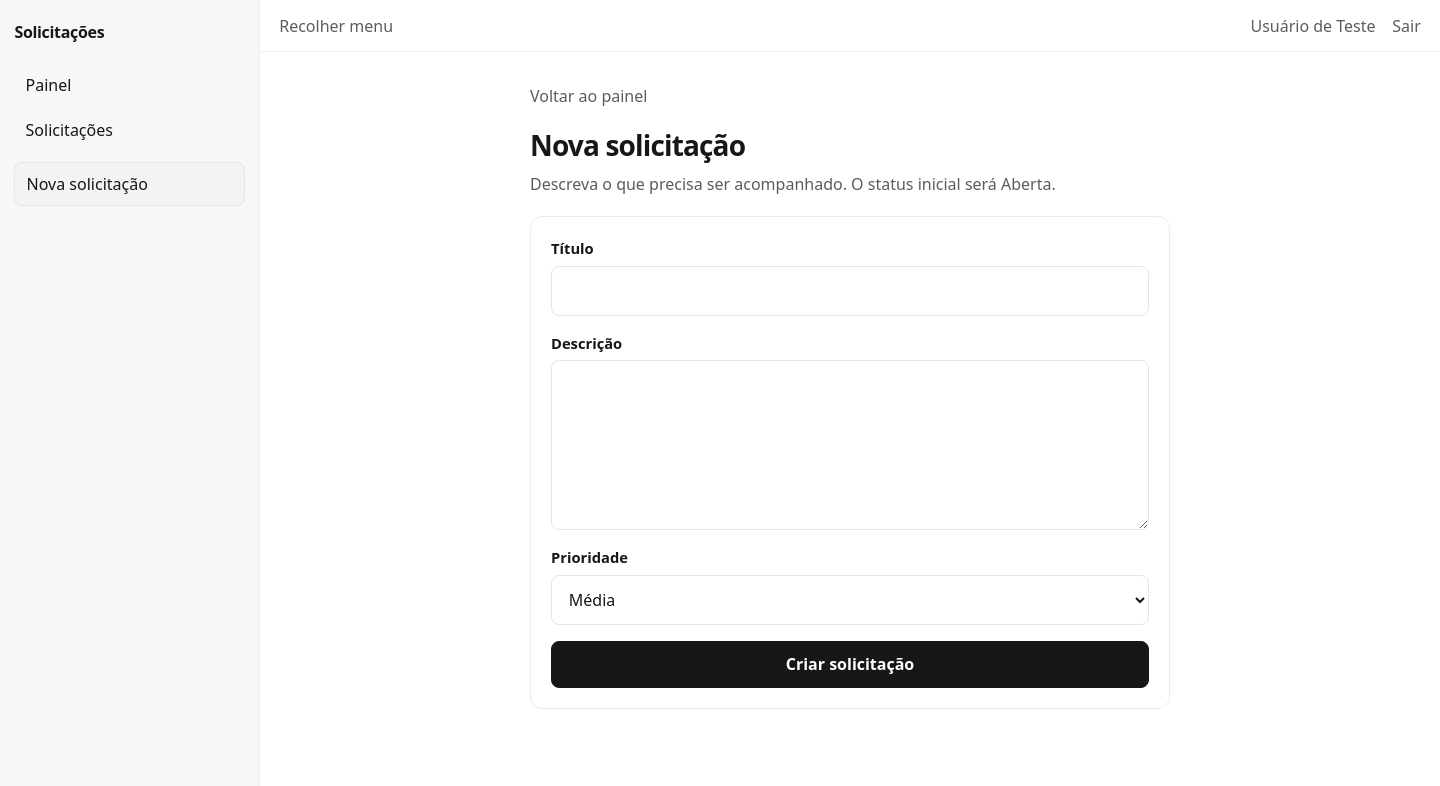
Test: painel e solicitações › cria uma solicitação e abre os detalhes
The width and height of the screenshot is (1440, 786).
Check: the heading "Nova solicitação" is shown, box top-left (530, 126), bottom-right (745, 164)
Type "Trocar a lâmpada de teste" into the field labelled "Título" at point(850, 291), box top-left (551, 266), bottom-right (1149, 316)
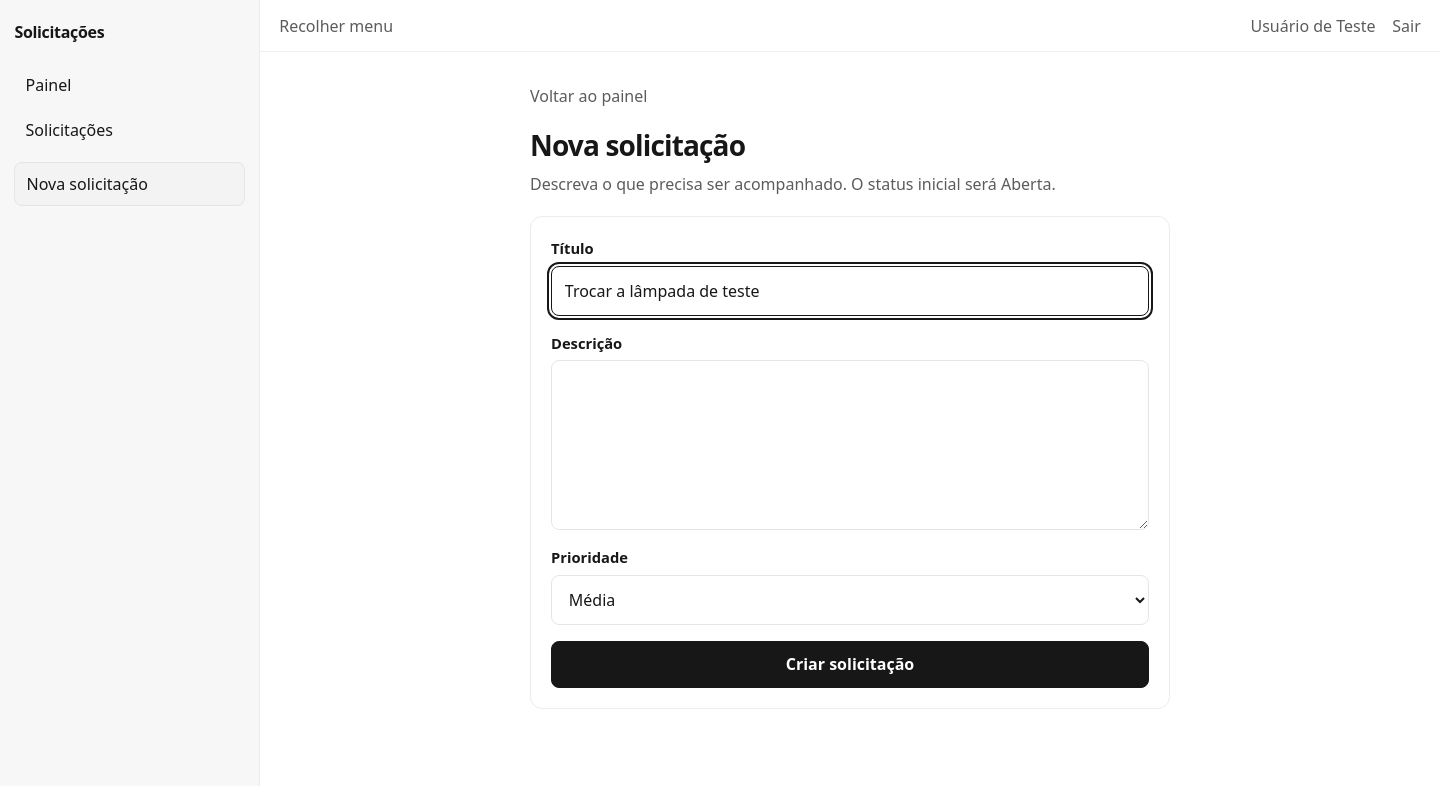
Type "Solicitação recebida da API de teste." into the text box labelled "Descrição" at point(850, 445), box top-left (551, 360), bottom-right (1149, 530)
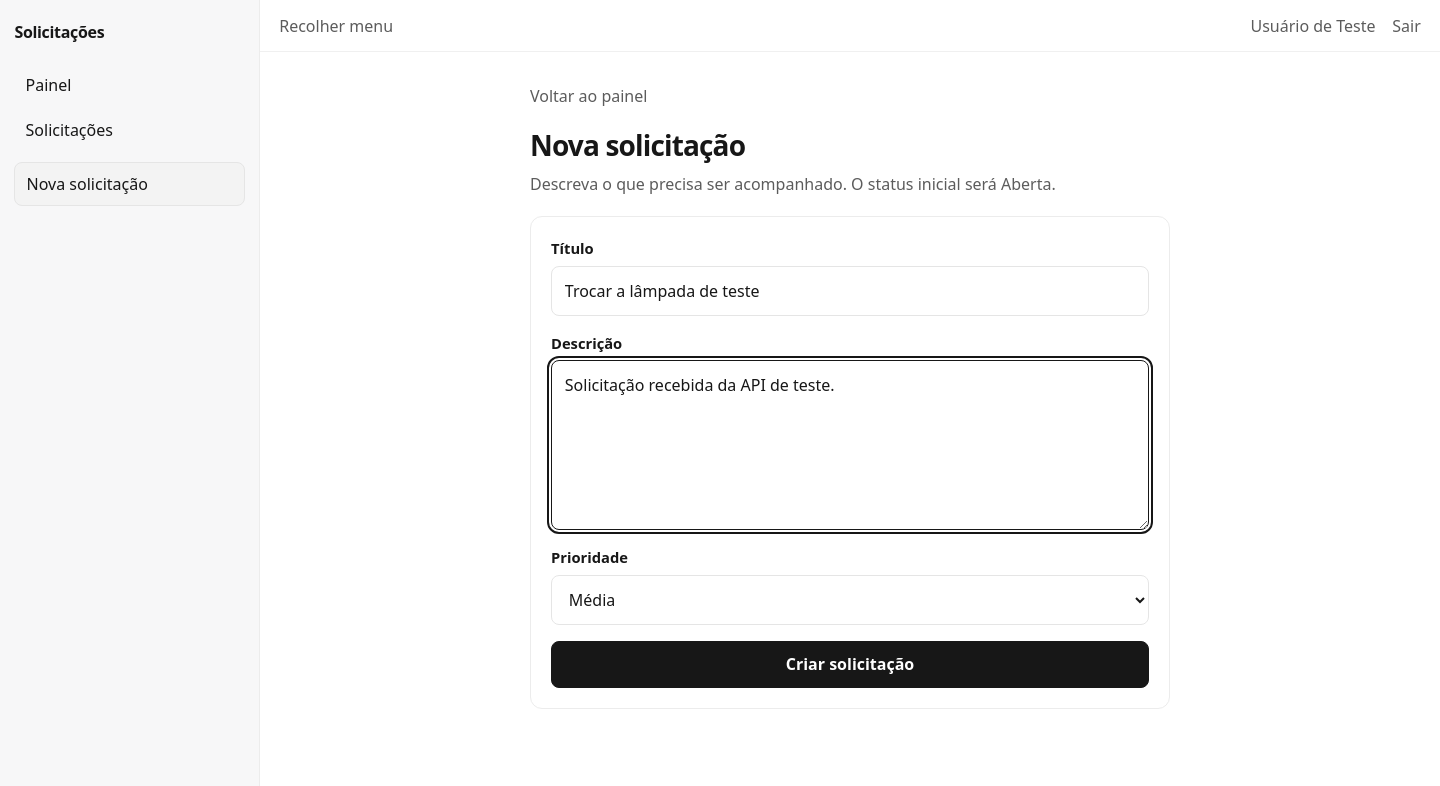
Select "Alta" in the dropdown labelled "Prioridade" at point(850, 600), box top-left (551, 575), bottom-right (1149, 625)
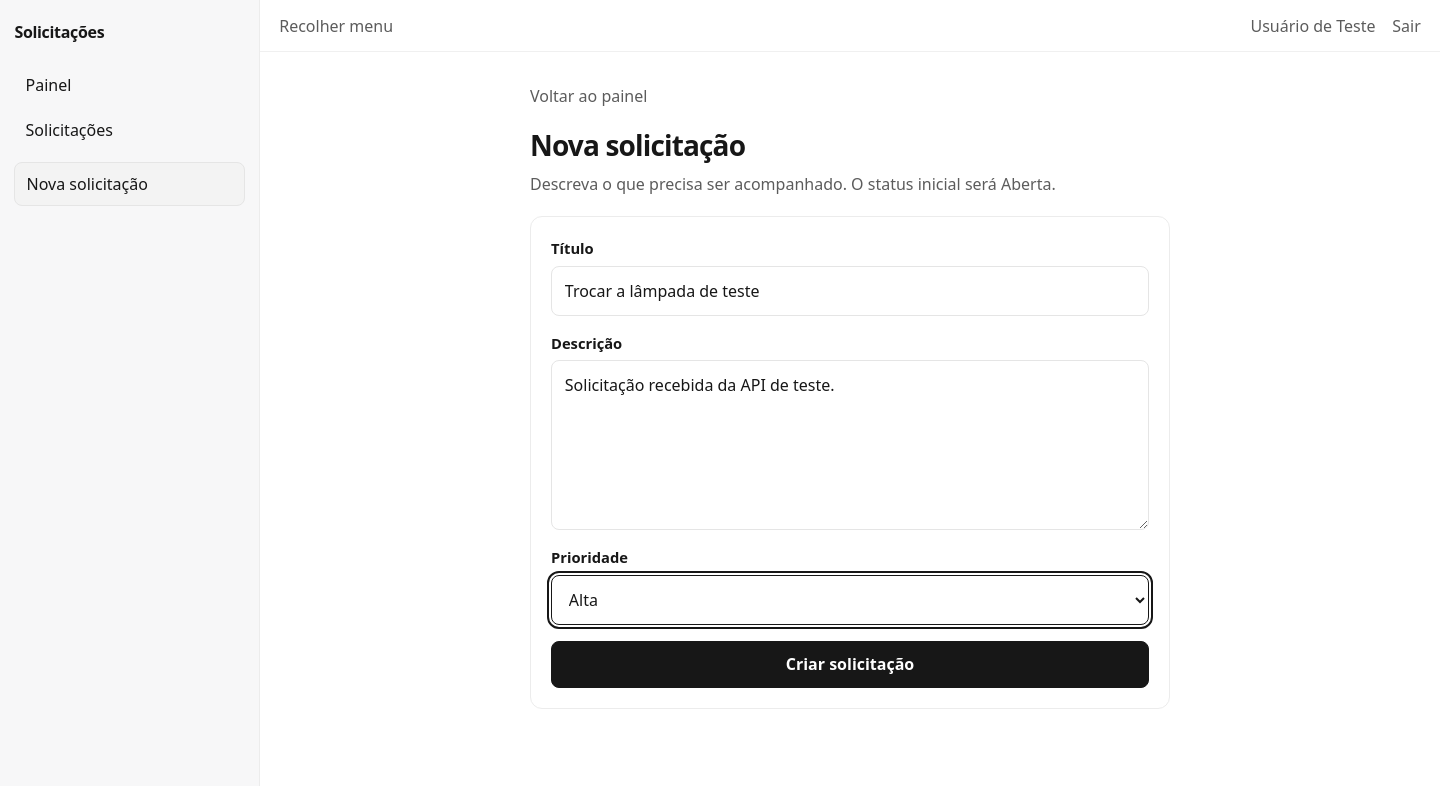
Click the button "Criar solicitação" at point(850, 664), box top-left (551, 641), bottom-right (1149, 688)
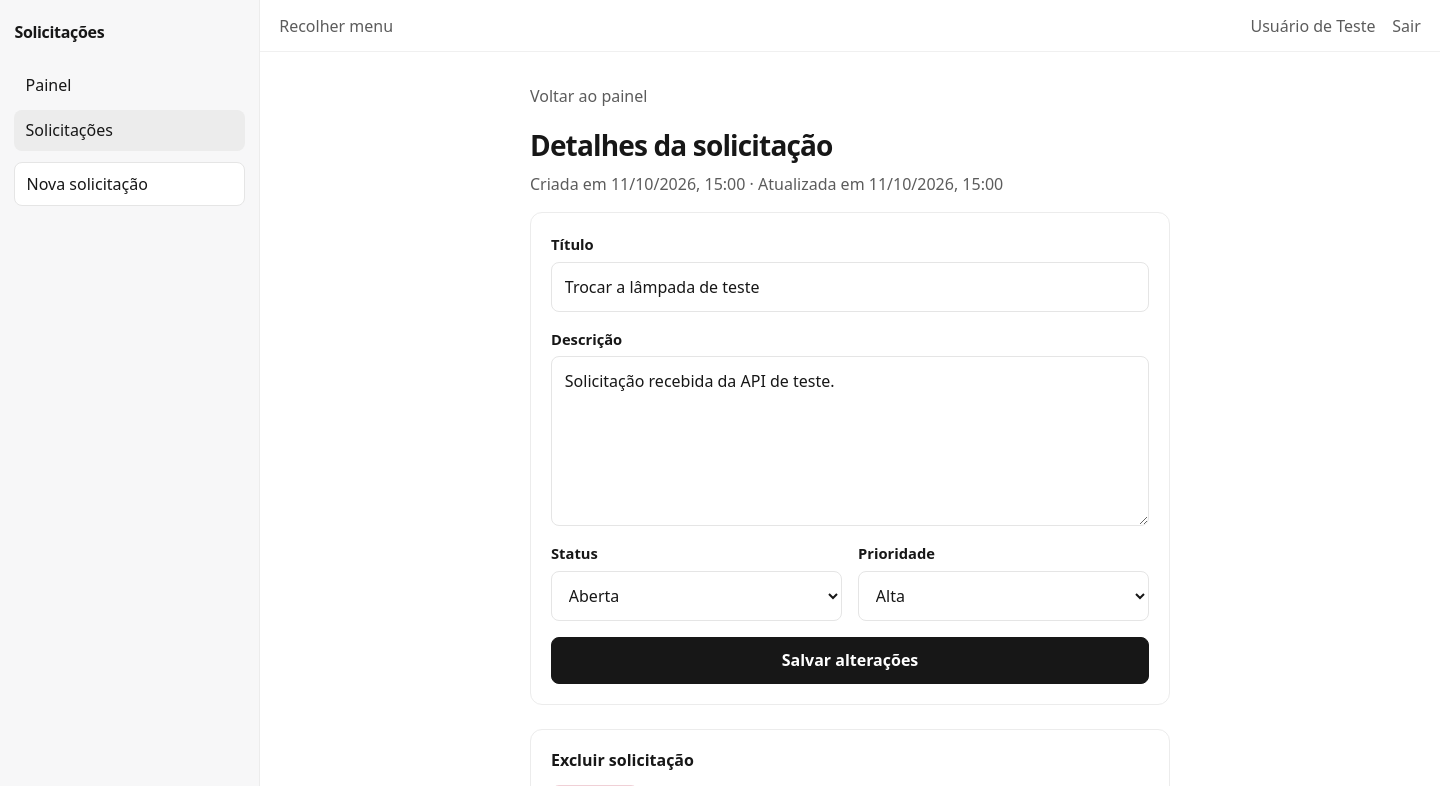
Check: the field labelled "Título" holds "Trocar a lâmpada de teste", box top-left (551, 262), bottom-right (1149, 312)
Check: the heading "Detalhes da solicitação" is shown, box top-left (530, 126), bottom-right (833, 164)
